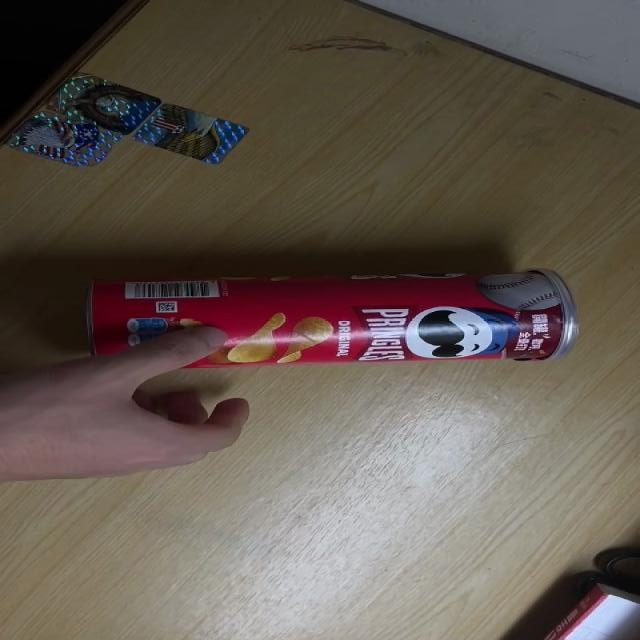Pringles: (82, 269, 578, 368)
